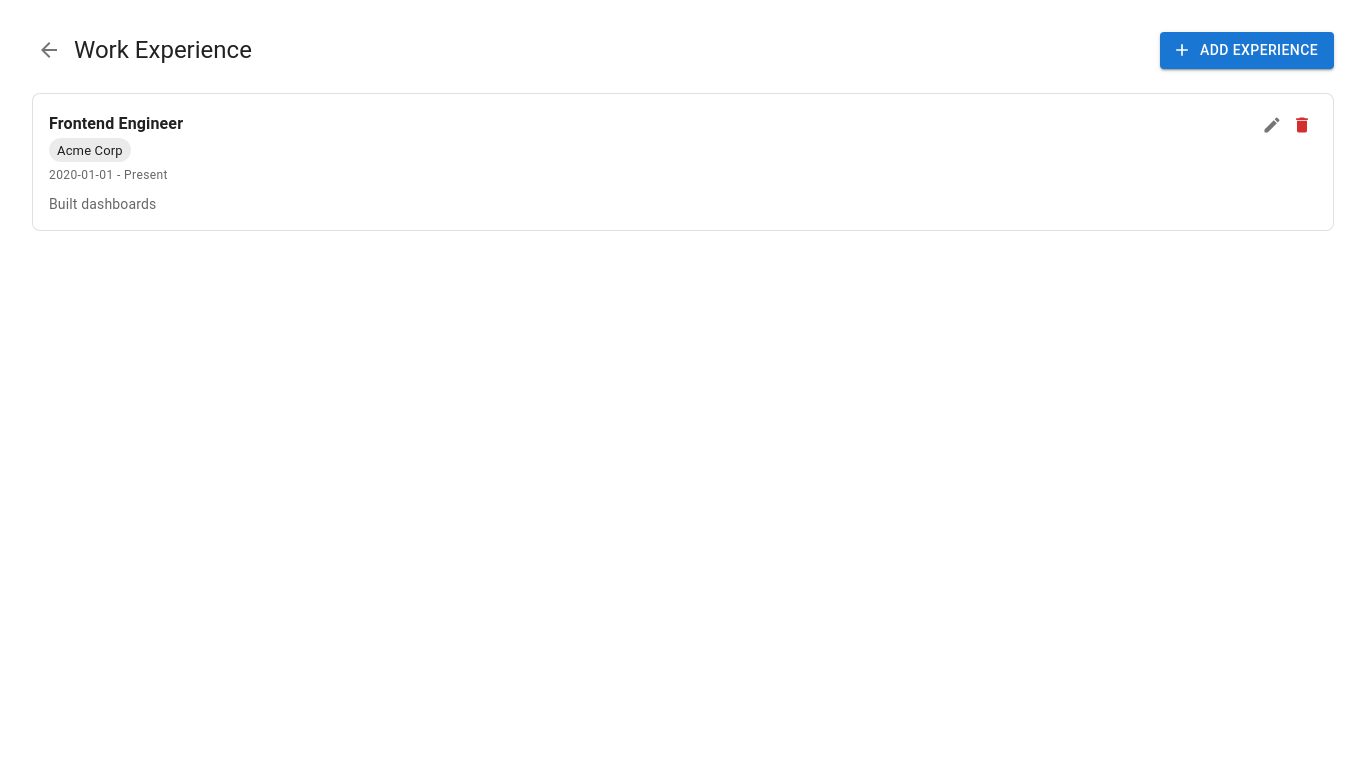
Scenario: WorkExperiencePage › deletes a work experience entry after confirming
Click the 4th button: x=1302, y=124 [1287,110,1317,140]
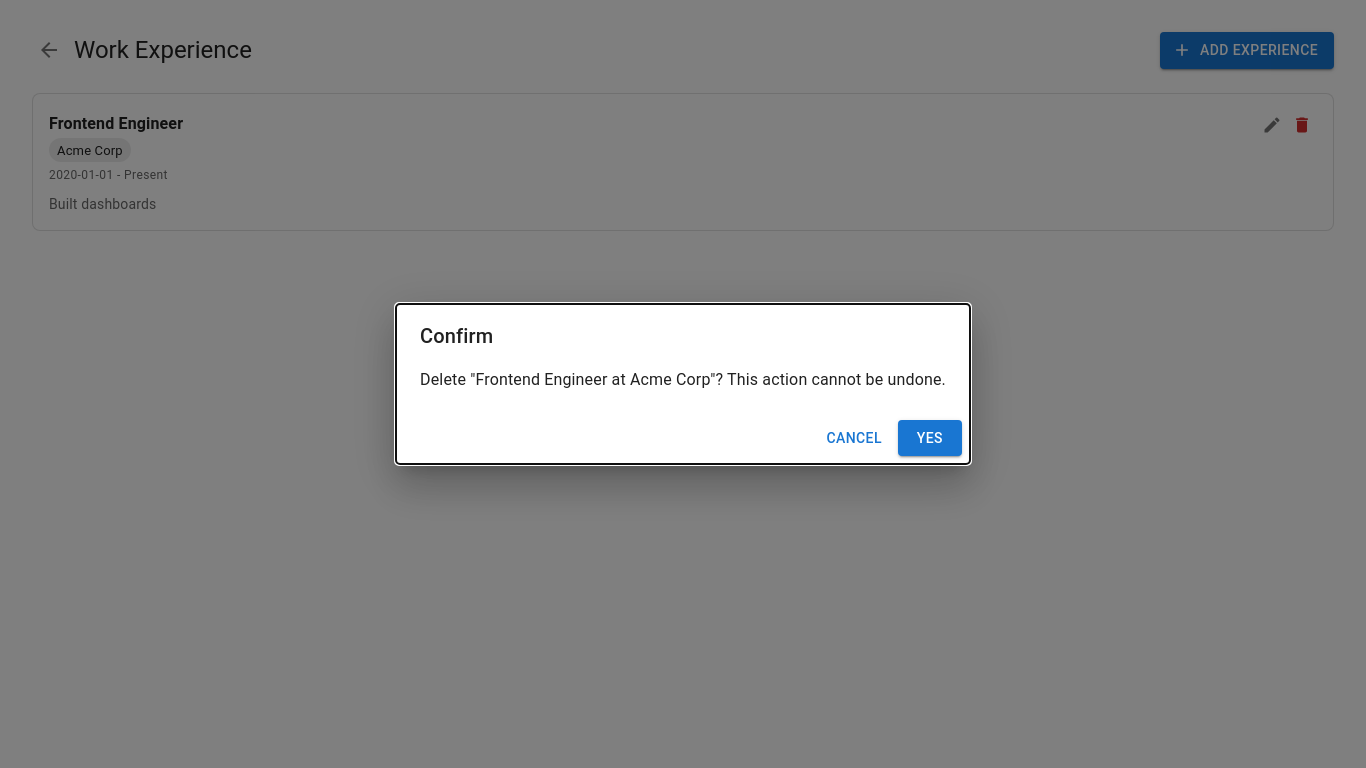
Expected: the text "Delete \"Frontend Engineer at Acme Corp\"? This action cannot be undone." is shown, [420,370,946,389]
Click the button "Yes": x=930, y=438 [898,420,962,456]
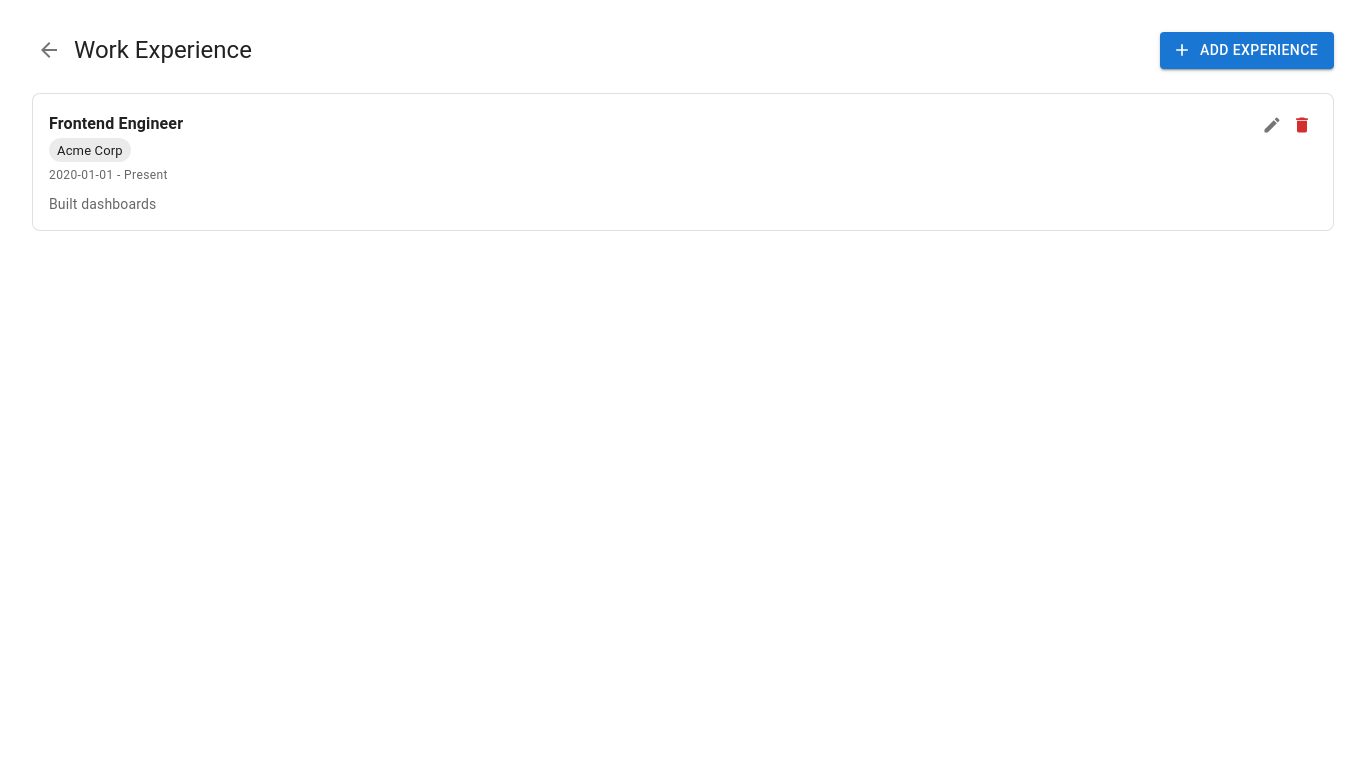
Expected: the text "Delete \"Frontend Engineer at Acme Corp\"? This action cannot be undone." is gone
